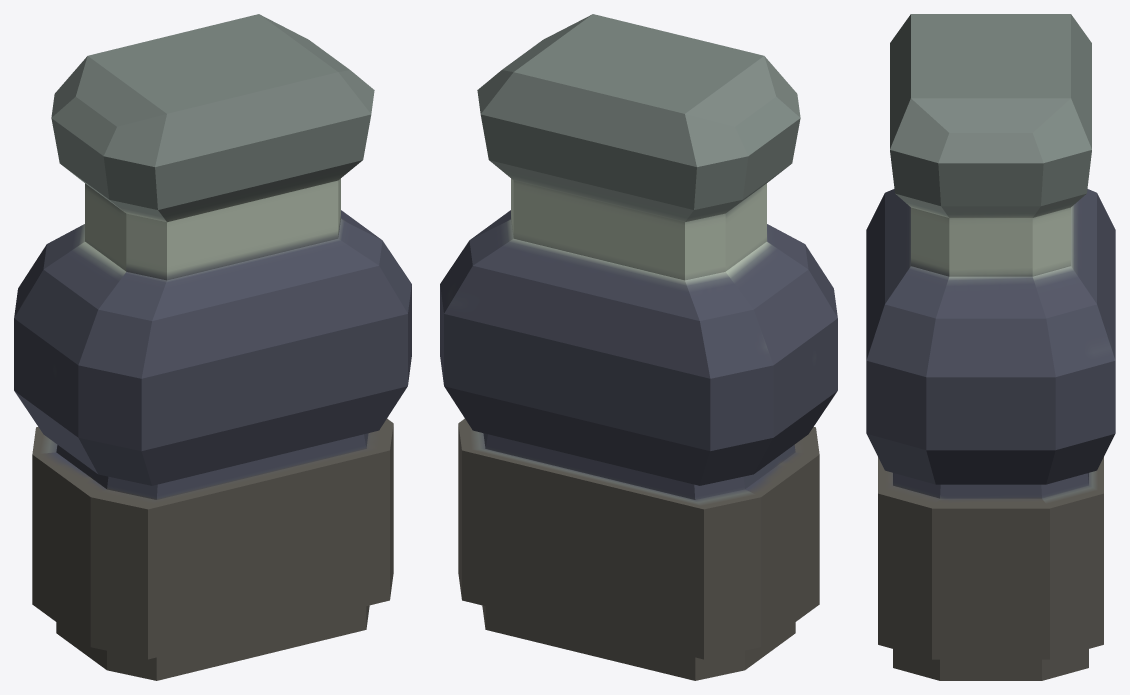
Rendered from backpackHeavy.fbx.
3 renders of one model, left to right at view 1: azimuth 30°, elevation 25°; view 2: azimuth 150°, elevation 25°; view 3: azimuth 270°, elevation 25°, orthographic.
Parts seen in each view (by area): view 1: backpackHeavy_geo; view 2: backpackHeavy_geo; view 3: backpackHeavy_geo.
Boxes of the visible parts, x1,y1,x2,y2 form: backpackHeavy_geo: [14, 14, 411, 680]; backpackHeavy_geo: [440, 14, 837, 680]; backpackHeavy_geo: [866, 14, 1115, 680].
Size of the model in its own units: 7.67 by 12.21 by 4.92.
Materials: 1 (1 with a texture image).
